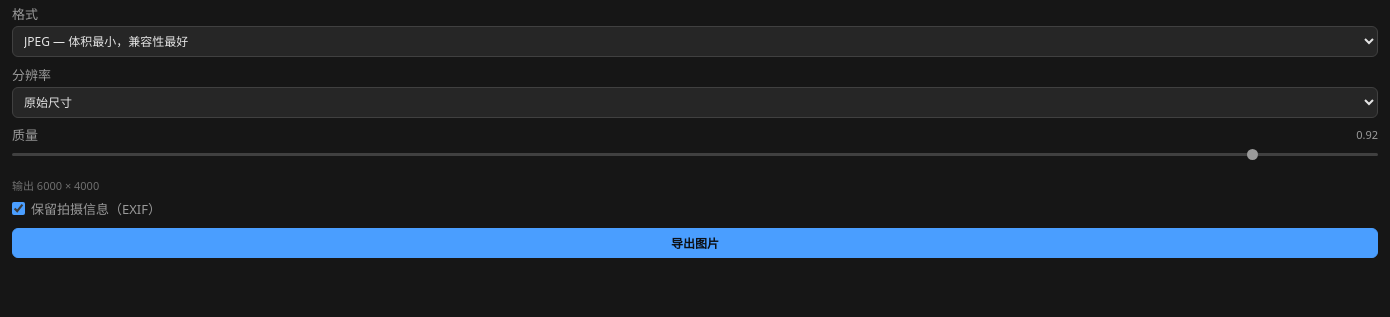
Test case: ExportPanel 的 EXIF 保留 › WebP 导出结果如实说明该格式不写 EXIF
Select "WebP — 同画质下比 JPEG 更小" in the dropdown labelled "格式" at coordinates (695, 42), box x1=12 y1=26 x2=1378 y2=57
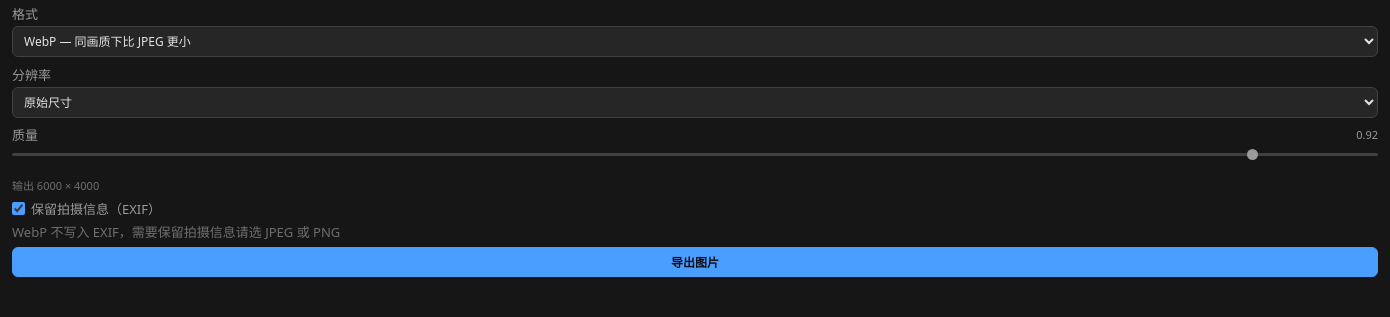
Click the button "导出图片" at coordinates (695, 262), box x1=12 y1=247 x2=1378 y2=277
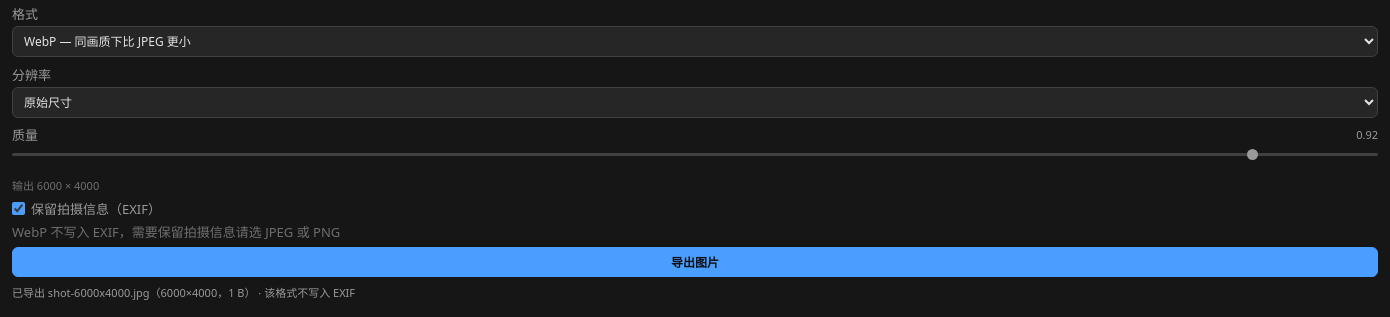
Result: the text "已导出 shot-6000x4000.jpg（6000×4000，1 B） · 该格式不写入 EXIF" is shown at x1=12 y1=285 x2=355 y2=300
